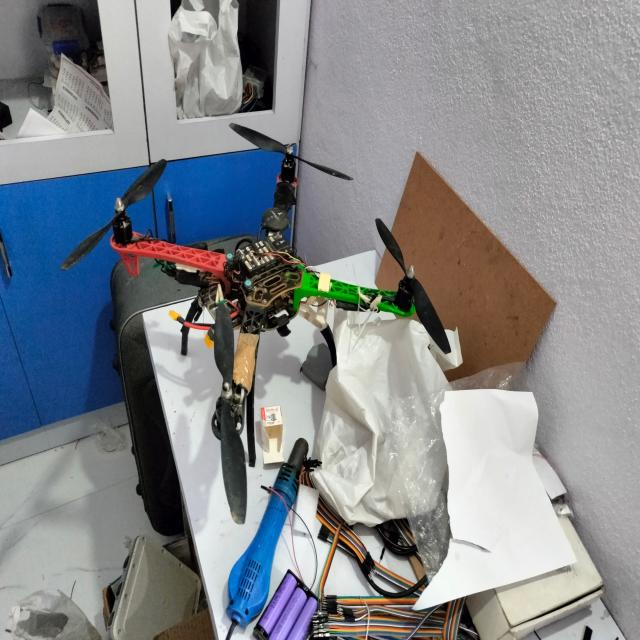drone: (60, 131, 468, 523)
